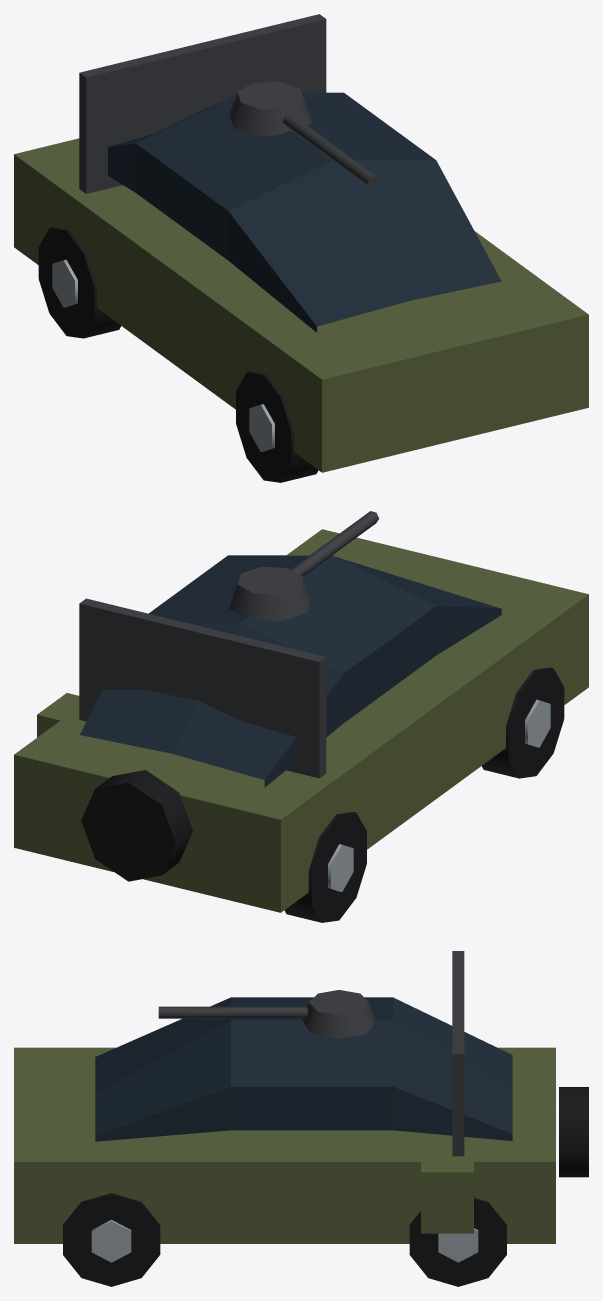
File: veh_ground_jeep_a07.glb
3 views of the same model, one above another, from view 1: azimuth 30°, elevation 25°; view 2: azimuth 150°, elevation 25°; view 3: azimuth 270°, elevation 25° (orthographic). The views are drawn at different scales.
Parts seen in each view (by area): view 1: body, wheel_0, wheel_2, gun; view 2: body, wheel_2, wheel_0, gun; view 3: body, wheel_3, wheel_1, gun.
Boxes of the visible parts, x1,y1,x2,y2 form: body: [14, 14, 588, 472]; wheel_0: [38, 227, 120, 338]; wheel_2: [236, 371, 318, 482]; gun: [229, 81, 378, 188]; body: [14, 529, 588, 912]; wheel_2: [482, 667, 564, 778]; wheel_0: [284, 812, 366, 922]; gun: [229, 511, 379, 621]; body: [14, 951, 588, 1243]; wheel_3: [63, 1193, 160, 1286]; wheel_1: [409, 1197, 506, 1286]; gun: [158, 990, 375, 1038].
Size of what is drawn, in the model's own units: 2 by 1.66 by 3.82.
